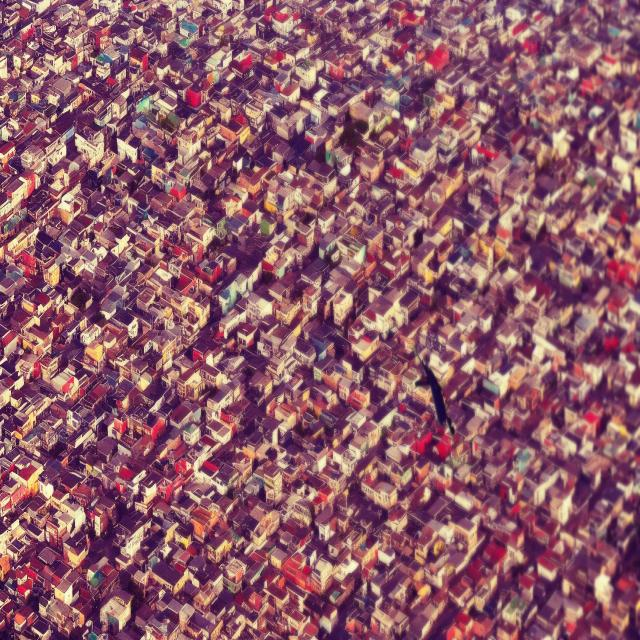airplane: (412, 346, 456, 434)
